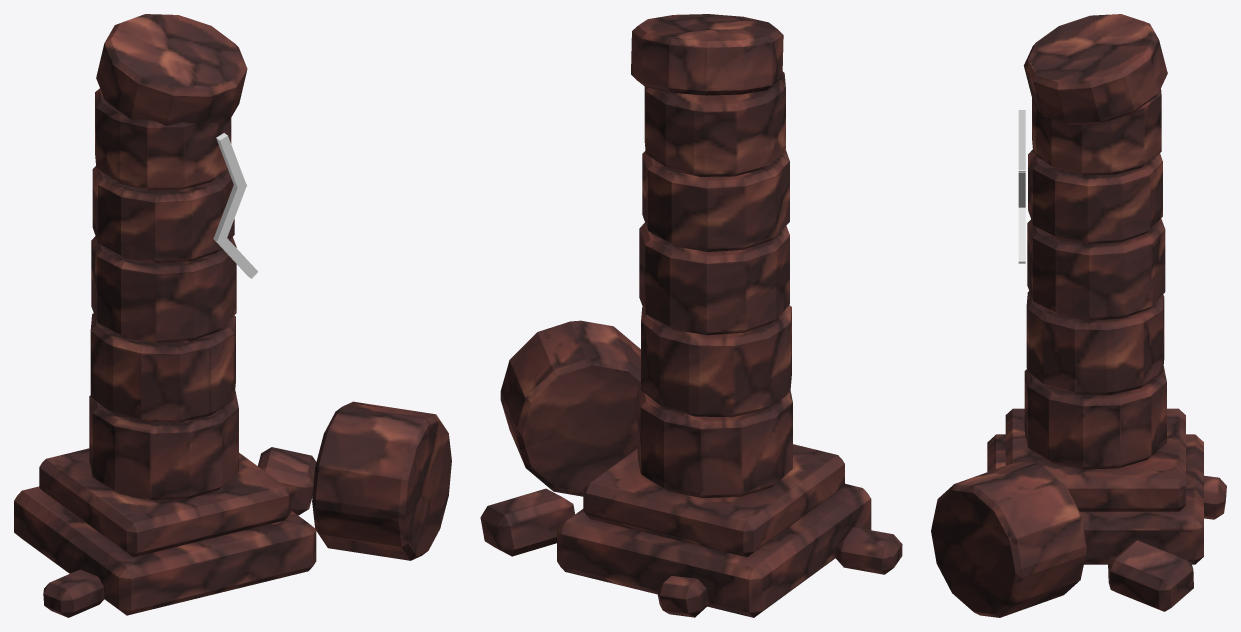
File: mapkit_pillar_magma.fbx
The picture shows the model from 3 angles, left to right: view 1: azimuth 30°, elevation 25°; view 2: azimuth 150°, elevation 25°; view 3: azimuth 270°, elevation 25°; orthographic projection. The views are drawn at different scales.
Visible parts, largest first — view 1: Body, c_255_115_31; view 2: Body; view 3: Body, c_255_115_31.
Boxes of the visible parts, box(x1,y1,x2,y2) form: Body: box(14, 14, 451, 617); c_255_115_31: box(213, 133, 257, 278); Body: box(480, 14, 902, 617); Body: box(931, 14, 1226, 617); c_255_115_31: box(1018, 110, 1025, 263).
Bounding box in the file's own units: 595 × 772 × 410.
1 material, 1 textured.
